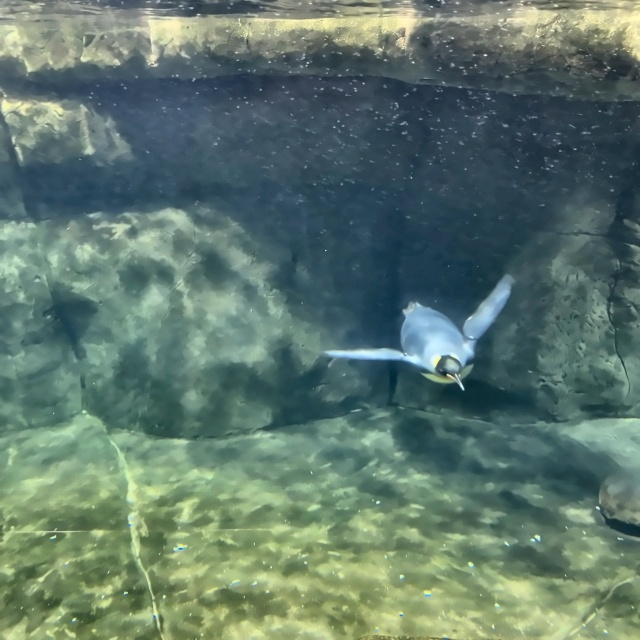penguin: (324, 272, 514, 392)
